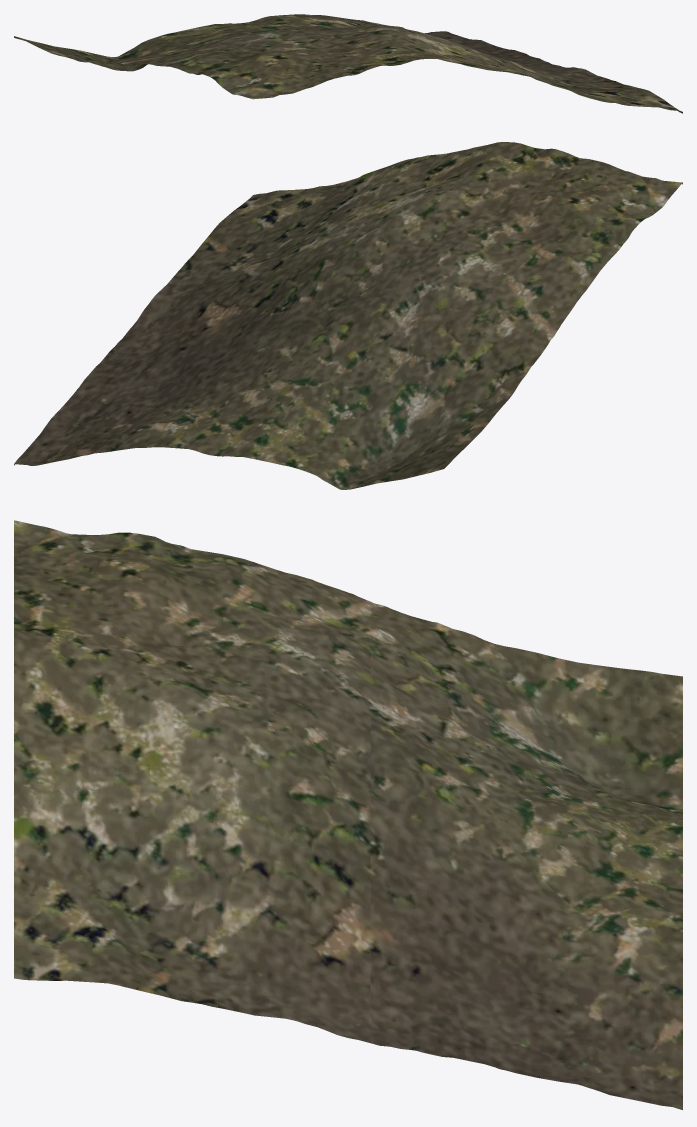
3 views of the same model, one above another, from view 1: azimuth 30°, elevation 25°; view 2: azimuth 150°, elevation 25°; view 3: azimuth 270°, elevation 25° (orthographic). The views are drawn at different scales.
Bounding box in the file's own units: 250 × 120 × 241.
Materials: 1 (1 with a texture image).
